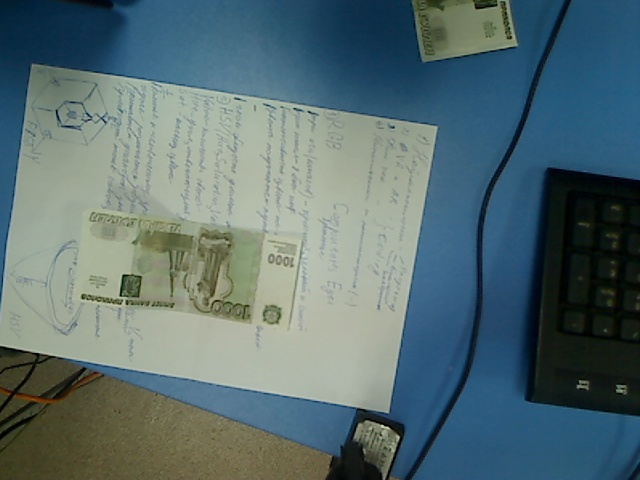banknotes: (70, 209, 303, 334)
